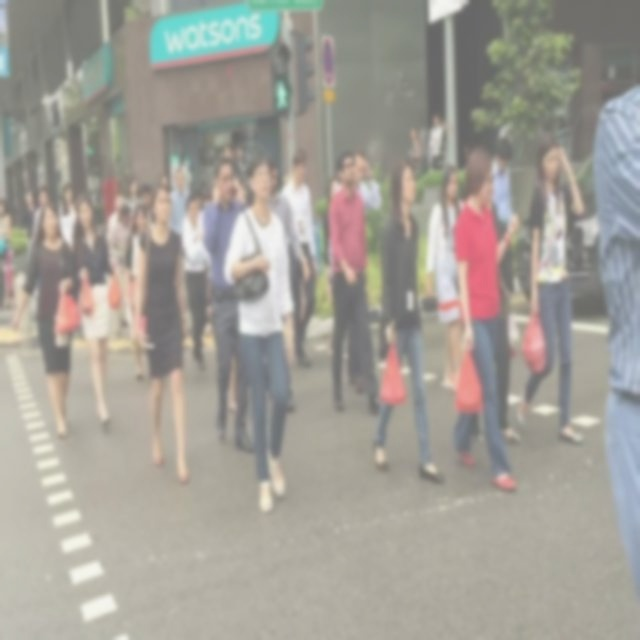pessoa: (592, 74, 640, 614), (226, 146, 296, 514), (376, 157, 446, 487), (516, 127, 586, 446), (454, 144, 518, 491), (454, 156, 520, 448), (9, 198, 82, 442), (136, 182, 192, 486), (203, 156, 256, 455), (328, 149, 382, 415), (71, 189, 122, 427), (425, 161, 467, 395), (279, 145, 320, 371), (344, 150, 382, 390), (178, 192, 212, 374), (228, 169, 250, 416), (322, 176, 349, 361), (125, 200, 152, 383), (108, 202, 133, 328), (490, 134, 516, 236), (105, 193, 126, 312), (169, 166, 190, 256), (224, 142, 252, 206), (58, 180, 78, 255), (30, 184, 50, 247), (26, 187, 38, 266), (428, 112, 444, 170), (198, 186, 214, 242), (407, 124, 422, 183), (124, 174, 145, 214), (140, 180, 156, 230), (190, 186, 204, 242), (175, 149, 192, 192), (274, 80, 292, 114), (438, 116, 448, 172), (156, 172, 172, 196)
